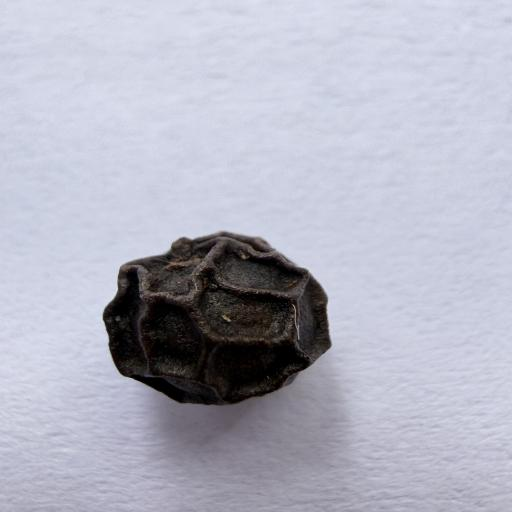Black_pepper: (81, 224, 337, 415)
